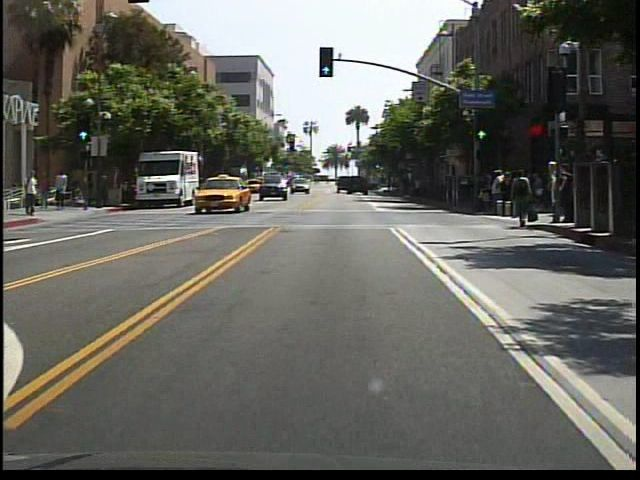person: (509, 167, 535, 230), (25, 168, 43, 219), (55, 168, 73, 214), (99, 170, 116, 208), (41, 172, 56, 212), (86, 171, 98, 208)
